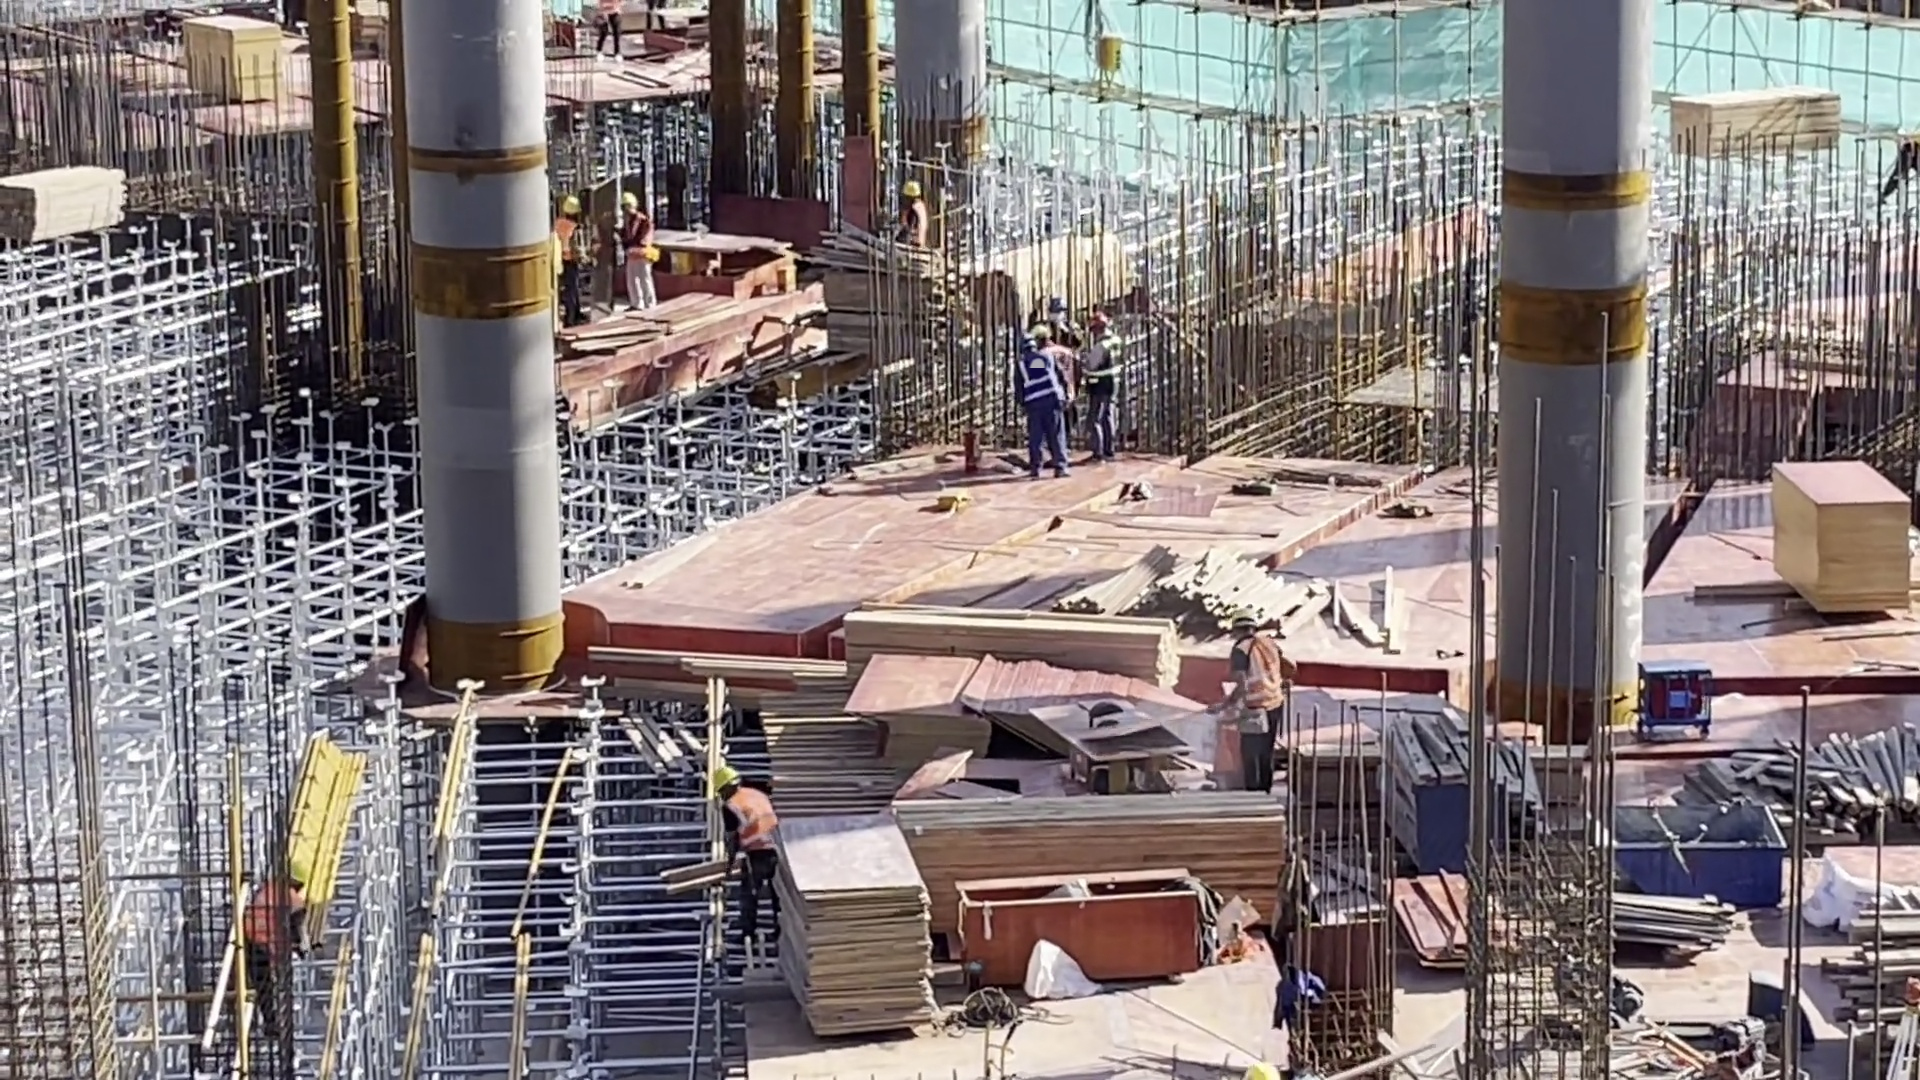board: (773, 816, 936, 1043), (1770, 457, 1912, 620), (856, 654, 991, 788), (167, 9, 268, 97), (1388, 871, 1470, 974)
cutter: (1025, 692, 1190, 787), (644, 229, 791, 301)
ebox: (1096, 33, 1125, 95)
helmet: (1231, 606, 1259, 627), (1015, 336, 1041, 357), (562, 196, 584, 216), (1091, 313, 1111, 332), (717, 763, 741, 780), (901, 179, 921, 198), (618, 191, 638, 209)
hopper: (1606, 797, 1783, 906)
person: (1214, 604, 1289, 800), (231, 872, 316, 1019), (714, 759, 777, 950), (1010, 335, 1073, 478), (1085, 309, 1126, 452), (554, 195, 592, 324), (618, 192, 659, 308), (1880, 116, 1920, 207), (892, 178, 933, 255), (573, 1, 603, 56)
vest: (717, 783, 778, 863), (1232, 638, 1278, 709), (1016, 348, 1056, 406), (1092, 334, 1126, 397), (621, 210, 657, 263), (556, 217, 584, 271), (906, 201, 930, 249)
wood: (1061, 544, 1413, 651), (1665, 714, 1920, 850), (886, 792, 1260, 873), (841, 598, 1177, 673), (1803, 877, 1920, 1058), (793, 235, 941, 372), (945, 226, 1111, 310), (1671, 86, 1847, 160), (1, 149, 112, 240)
